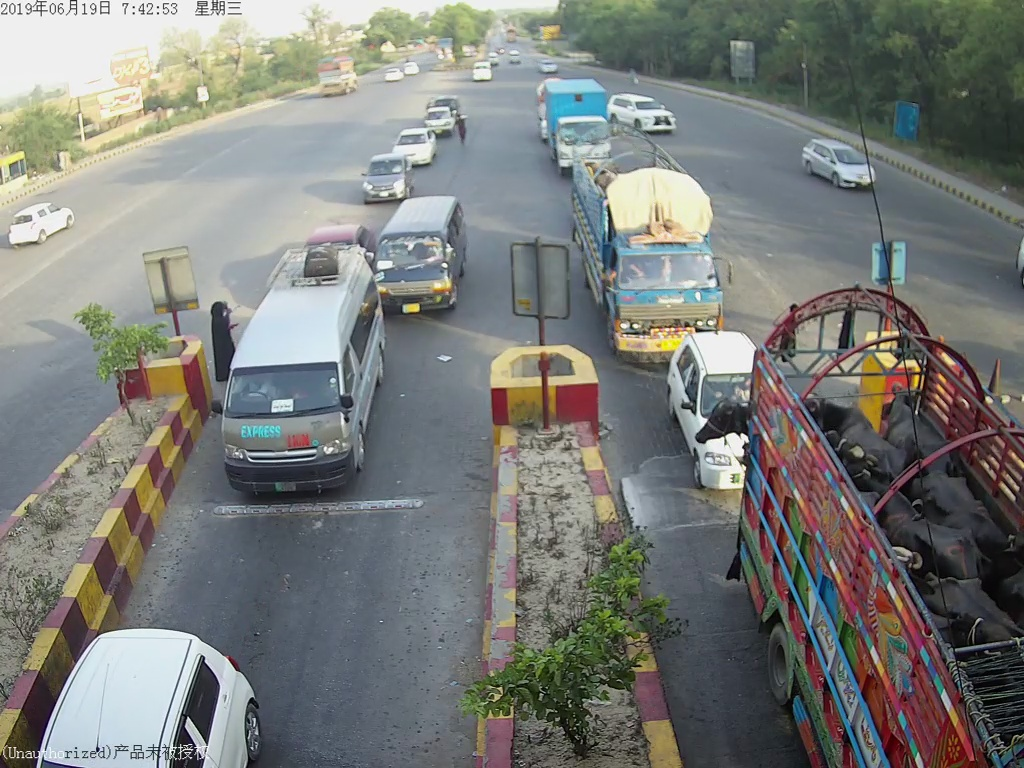Cat-1: (665, 347, 745, 483), (360, 154, 409, 203)
Cat-2: (226, 244, 397, 498)
Cat-4: (580, 147, 733, 336)
